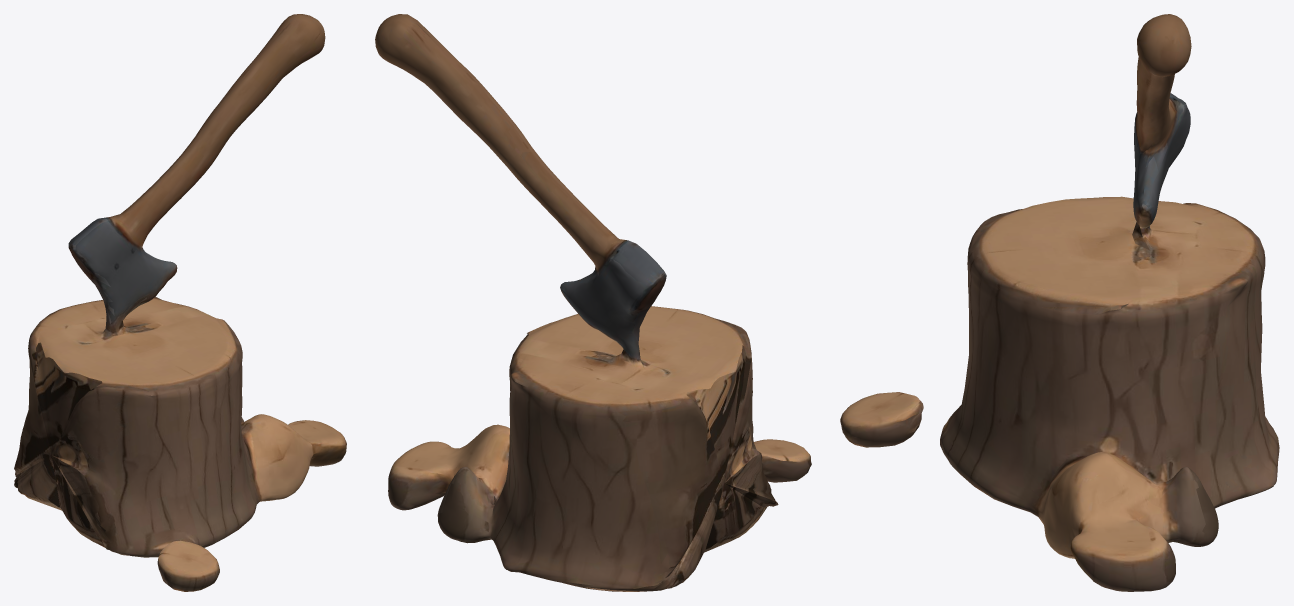
Rendered from ChoppingBlock.glb.
3 renders of one model, left to right at view 1: azimuth 30°, elevation 25°; view 2: azimuth 150°, elevation 25°; view 3: azimuth 270°, elevation 25°, orthographic. The views are drawn at different scales.
Visible parts, largest first — view 1: ChoppingBlock; view 2: ChoppingBlock; view 3: ChoppingBlock.
Part boxes in pixels (box(x1,y1,x2,y2)): ChoppingBlock: box(14, 14, 346, 591); ChoppingBlock: box(375, 14, 811, 591); ChoppingBlock: box(840, 14, 1279, 591).
Size of the model in its own units: 0.9901 by 1.43 by 0.9983.
Materials: 1 (1 with a texture image).
